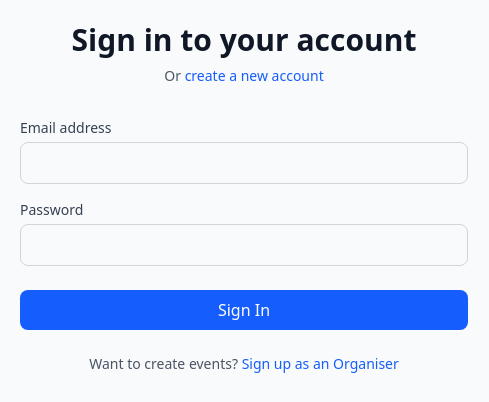
Test: LoginView › shows password required error when email is valid but password is empty
Type "test@example.com" into the field labelled "Email address" at (244, 163), box [20,142,468,184]
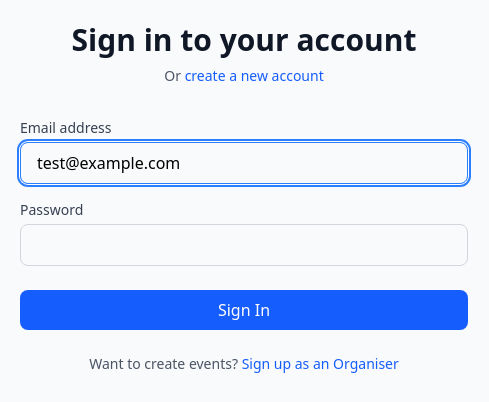
Click the button "Sign In" at (244, 310), box [20,290,468,330]
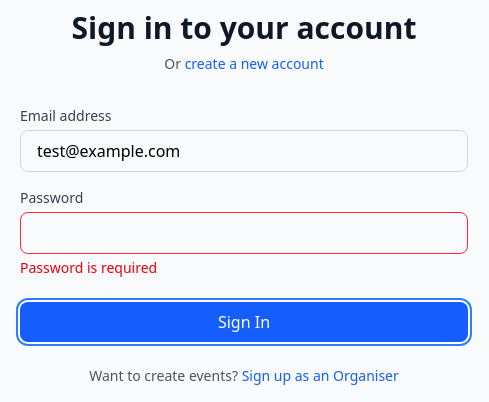
Result: the text "Password is required" is shown at [20,258,157,277]
